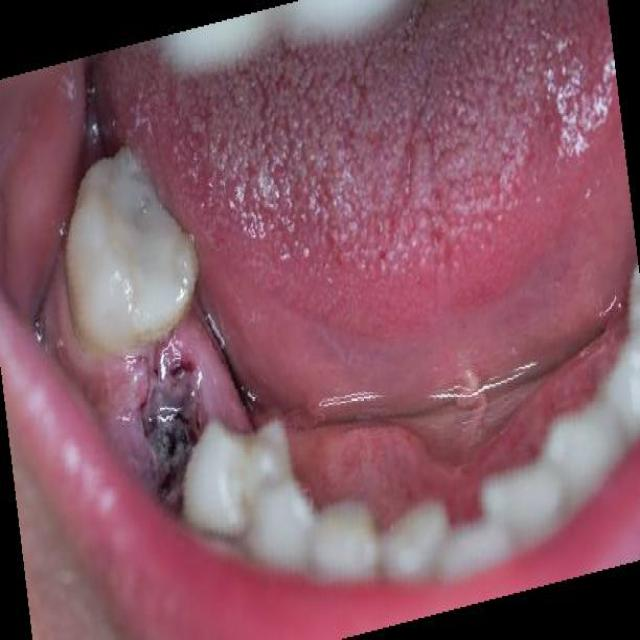caries: (132, 358, 196, 487)
